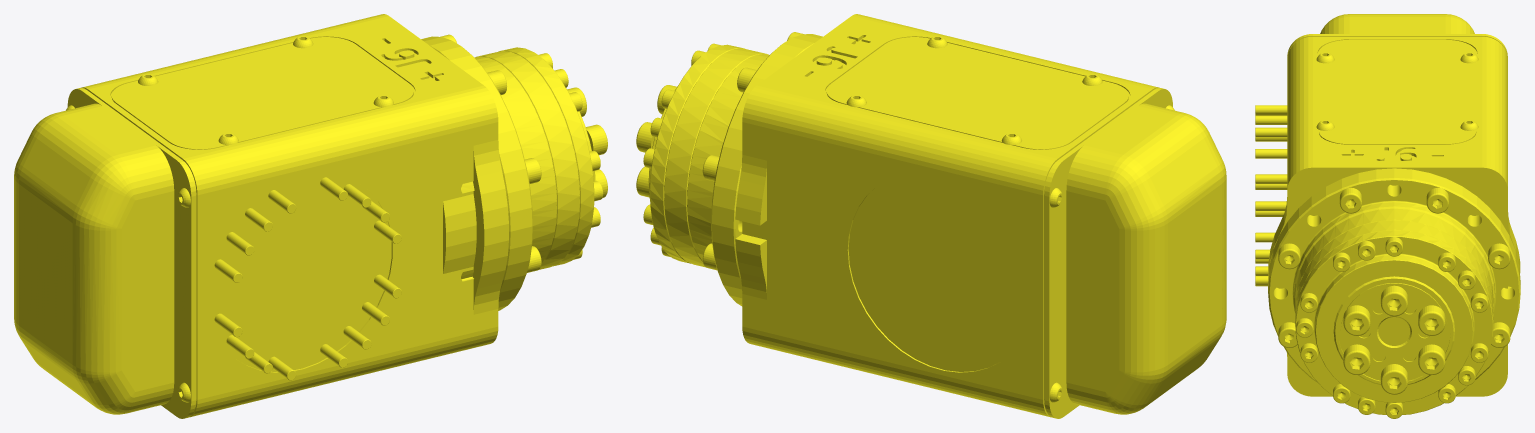
The picture shows the model from 3 angles, left to right: view 1: azimuth 30°, elevation 25°; view 2: azimuth 150°, elevation 25°; view 3: azimuth 270°, elevation 25°; orthographic projection. The views are drawn at different scales.
Parts seen in each view (by area): view 1: Link5; view 2: Link5; view 3: Link5.
Part boxes in pixels (bbox=[...]): Link5: bbox=[14, 14, 607, 418]; Link5: bbox=[636, 14, 1226, 418]; Link5: bbox=[1255, 14, 1520, 418].
Size of the model in its own units: 0.1717 by 0.083 by 0.0823.
